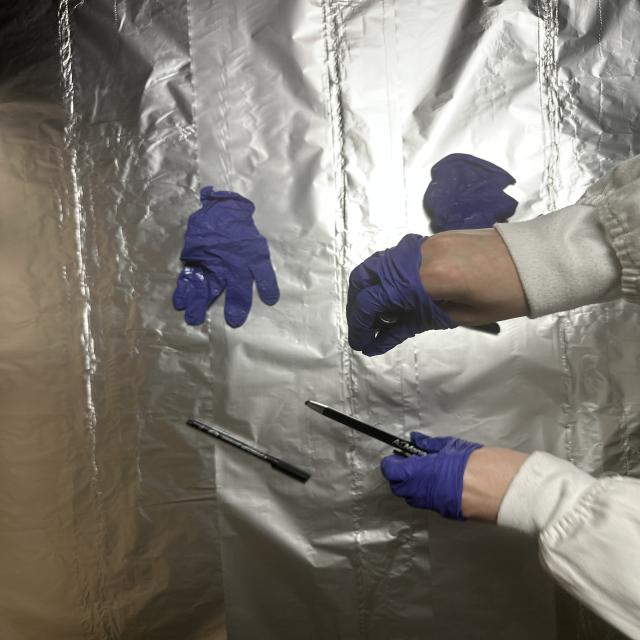glove_partial: (345, 222, 528, 358), (380, 427, 530, 521)
